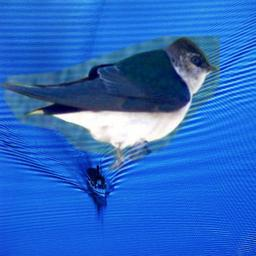Swallow: (0, 36, 220, 171)
